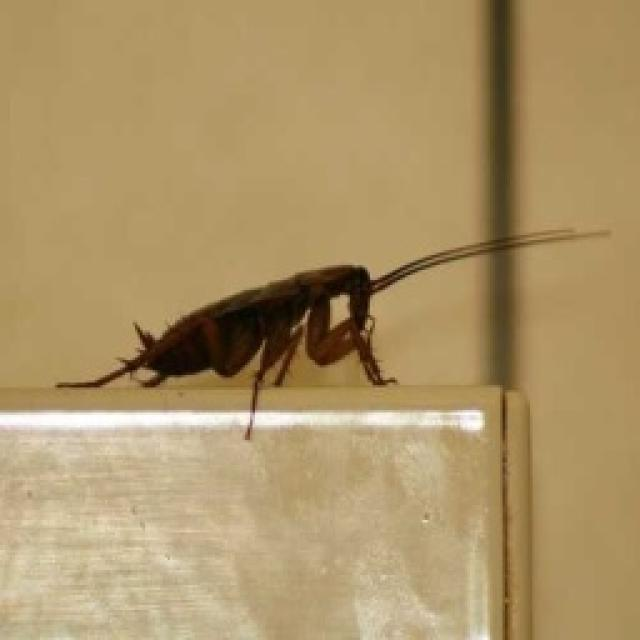cockroach: (52, 220, 614, 442)
